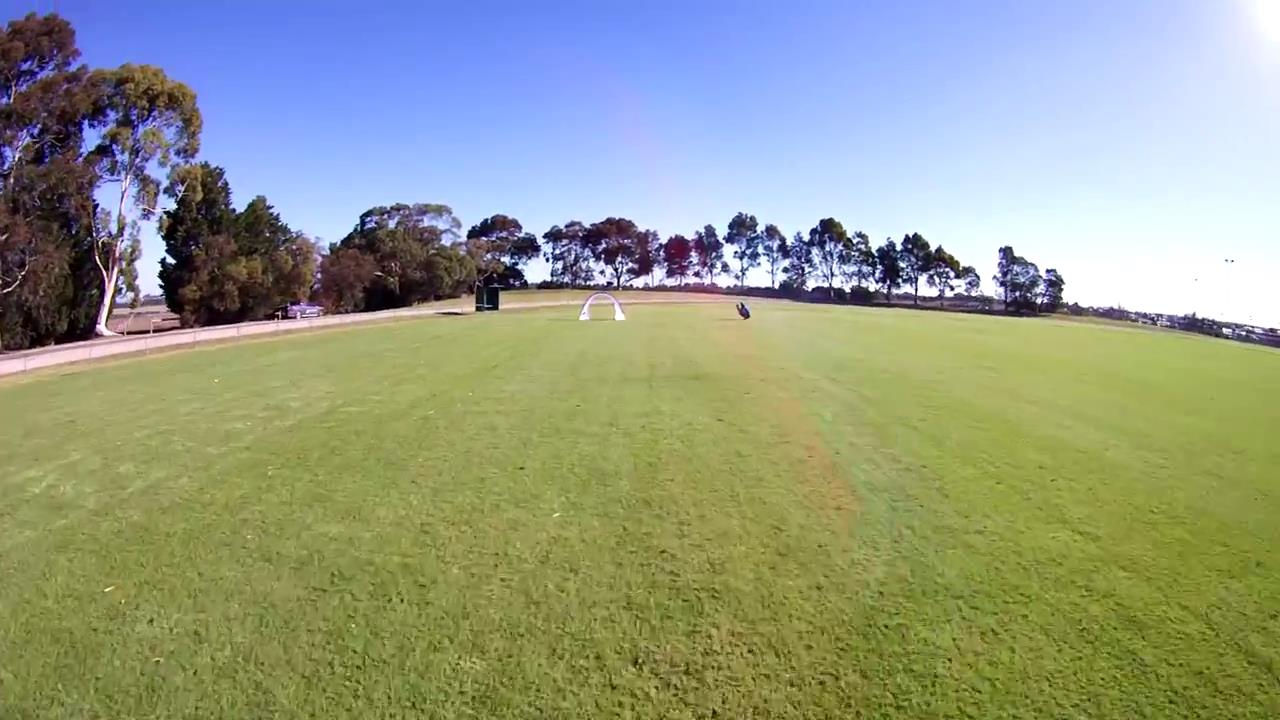gate: (578, 292, 627, 323)
